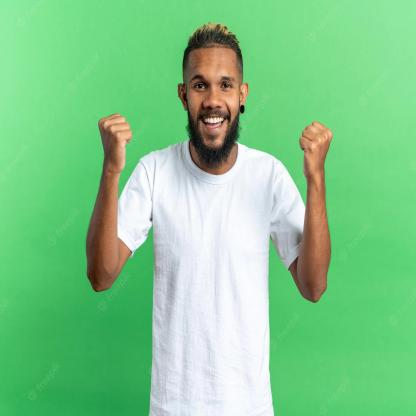fist: (86, 101, 136, 169), (292, 115, 337, 187)
